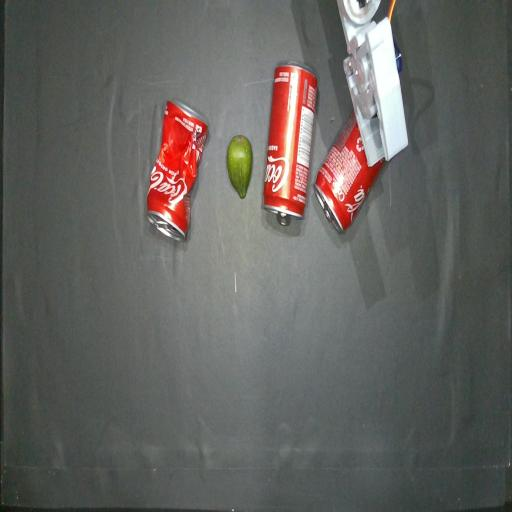higo: (227, 136, 253, 197)
lata: (263, 62, 318, 225), (313, 112, 385, 232)
lata_defectuoso: (147, 101, 208, 240)
